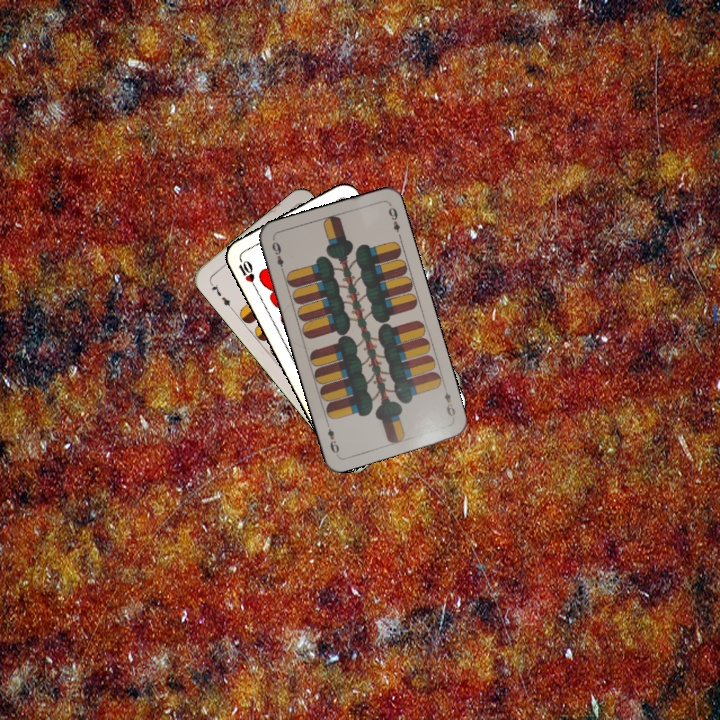E7: (205, 278, 236, 312)
E9: (268, 238, 287, 276), (440, 382, 458, 419)
H10: (234, 253, 259, 291)
